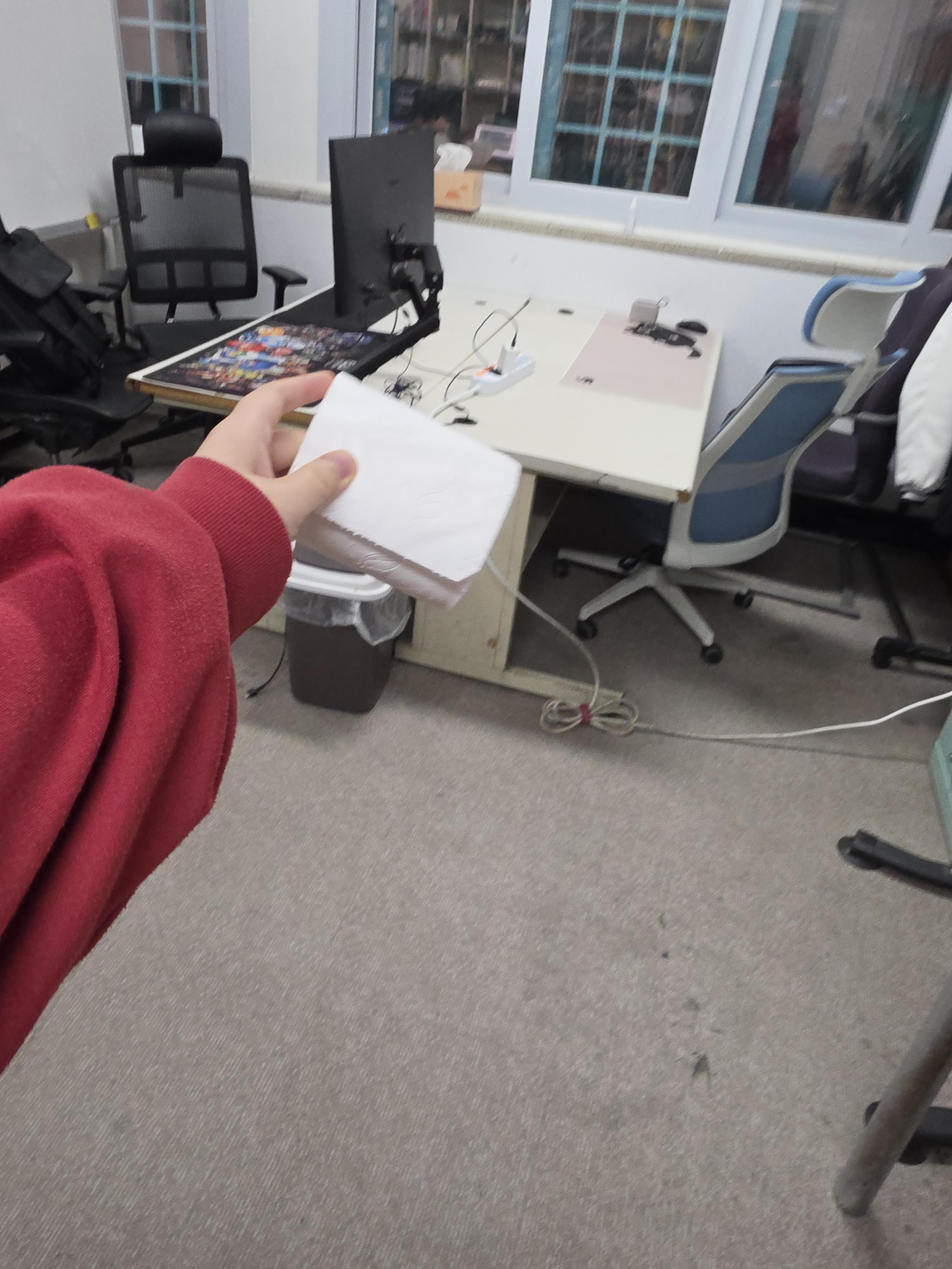tissue: (289, 372, 522, 608), (434, 142, 483, 213)
